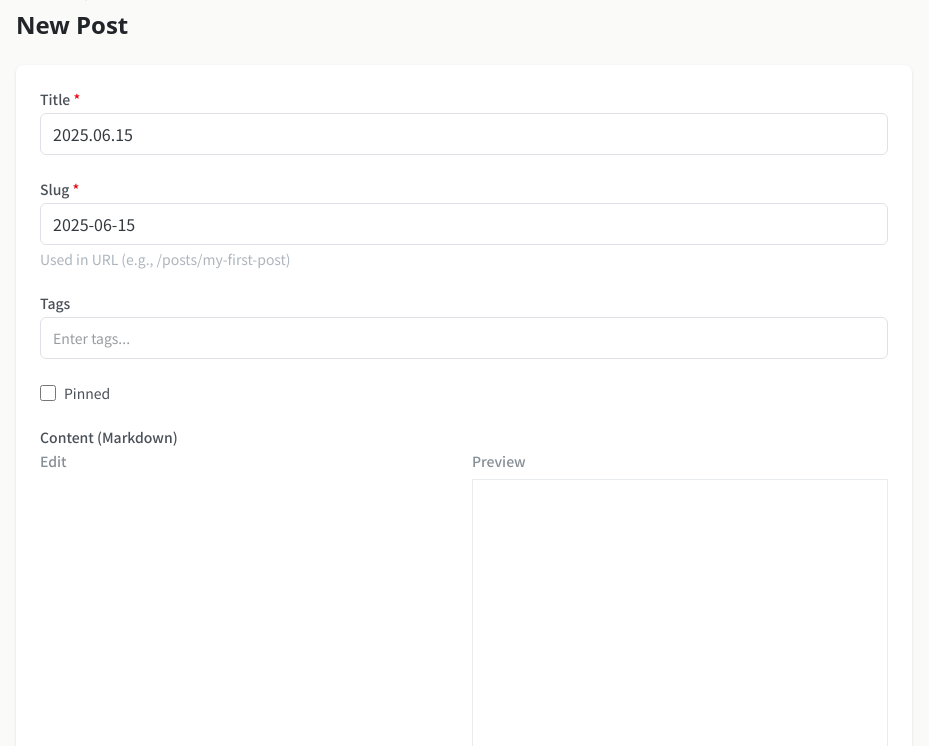
Test: PostEdit › Create post › should show error message when create fails
Replace the text in the field labelled "Title *" with "New Post" at (464, 134), box [40,113,888,155]
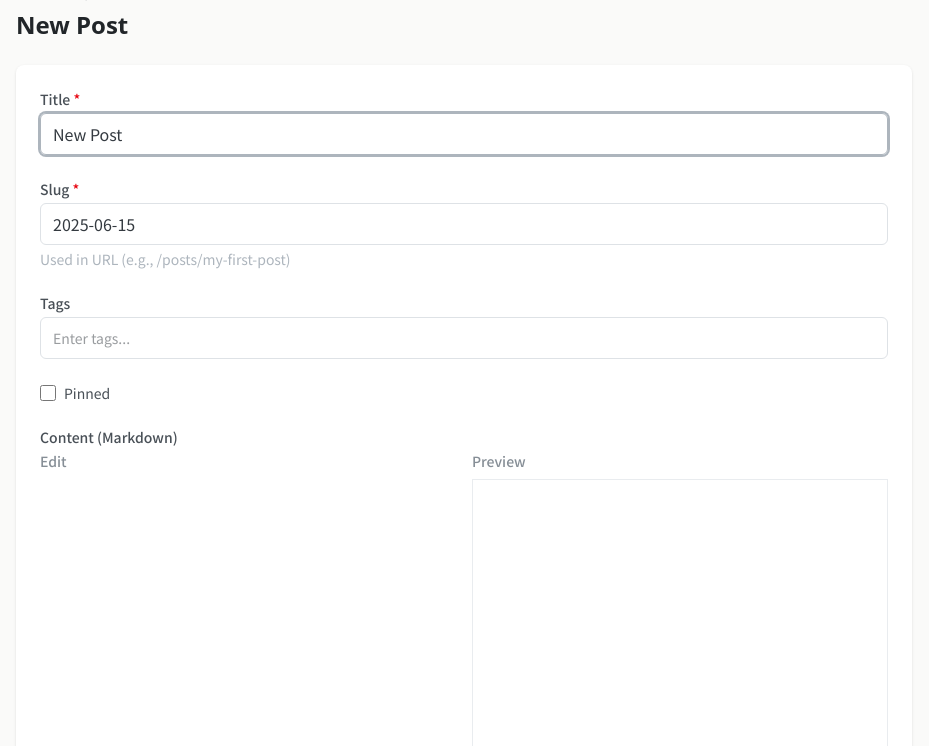
Type "duplicate-slug" into the field labelled "Slug *" at (464, 224), box [40,203,888,245]
(page scrolled)
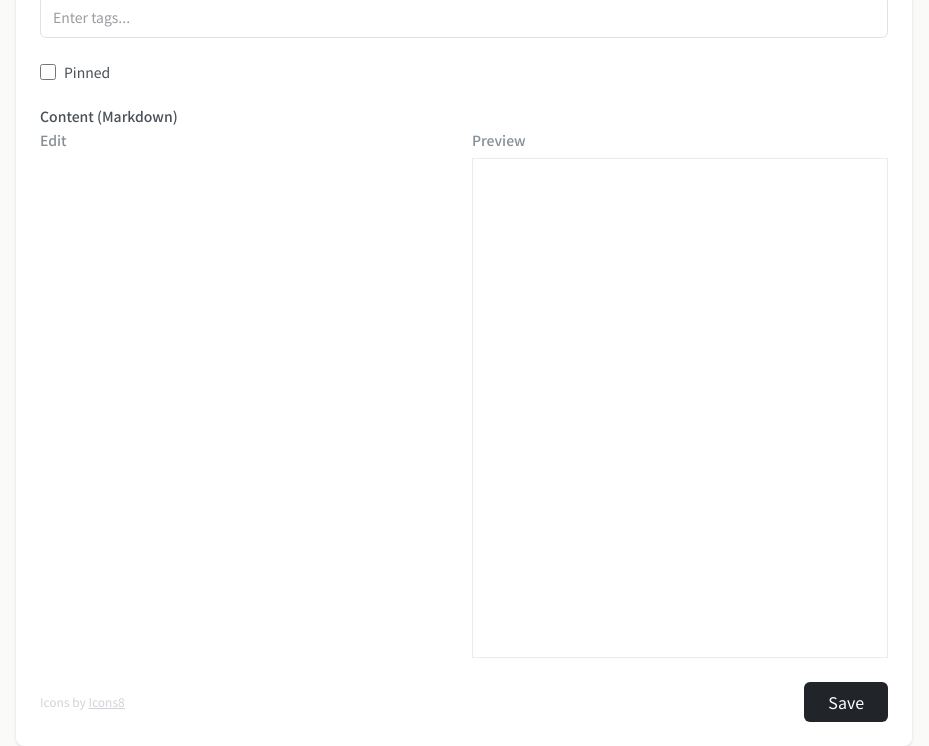
Click the button "Save" at (846, 702), box [804,682,888,722]
(page scrolled)
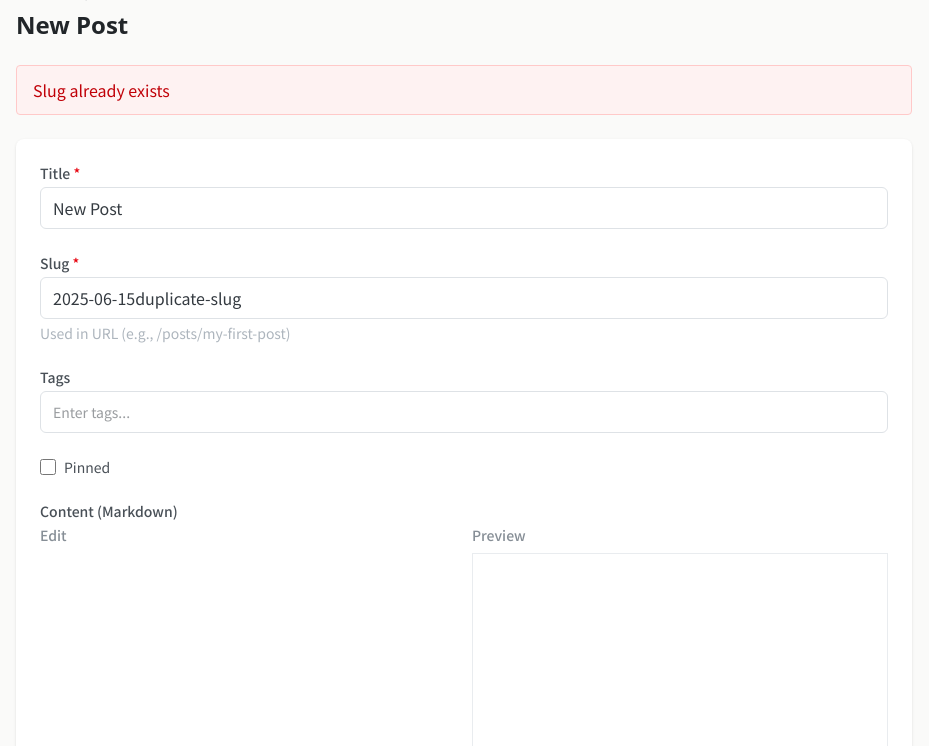
expect the text "Slug already exists" is shown: met, box [16,65,912,115]
